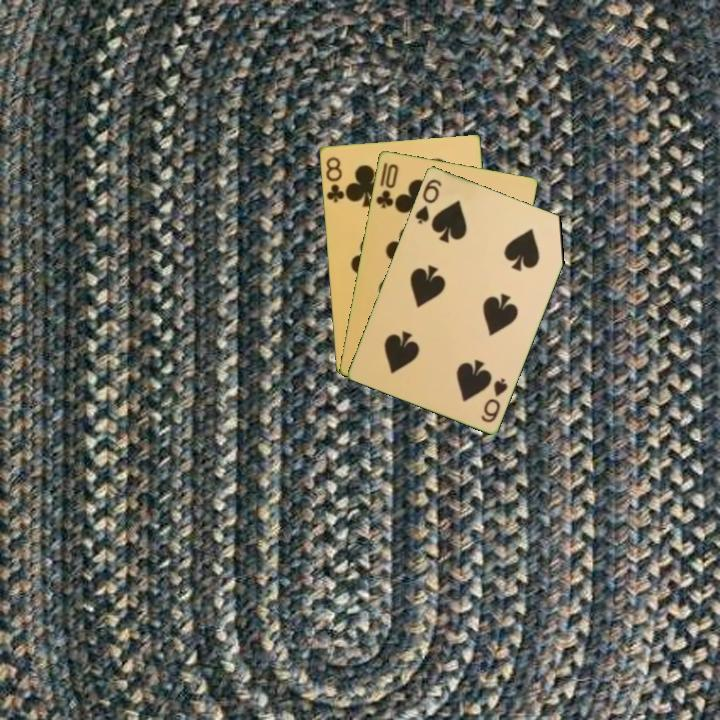10c: (372, 160, 401, 211)
6s: (477, 374, 511, 425), (411, 175, 444, 227)
8c: (322, 153, 348, 205)
